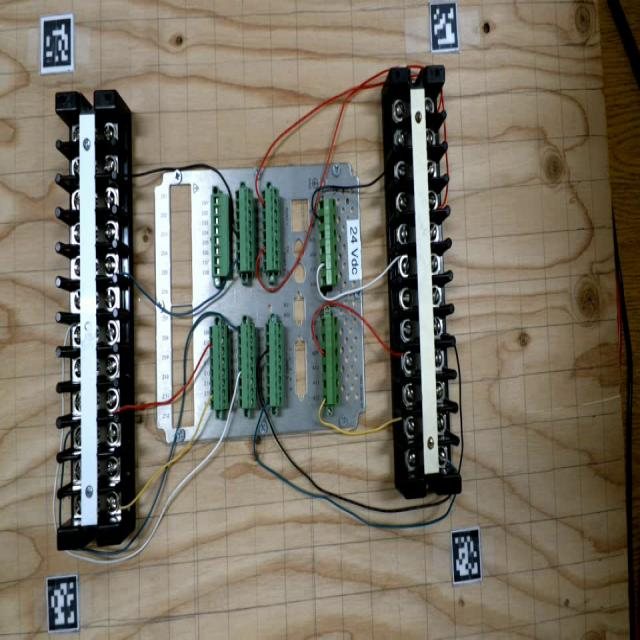Flathead_Block: (391, 66, 461, 499)
Phillips_Block: (56, 90, 119, 550)
Terminal_1: (317, 198, 338, 287), (320, 316, 340, 405)
Terminal_2: (209, 325, 228, 410), (235, 187, 254, 272), (261, 186, 280, 271), (265, 322, 284, 406), (237, 325, 256, 408)
